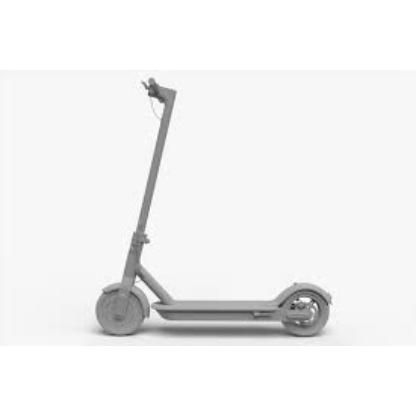bike: (94, 78, 334, 338)
